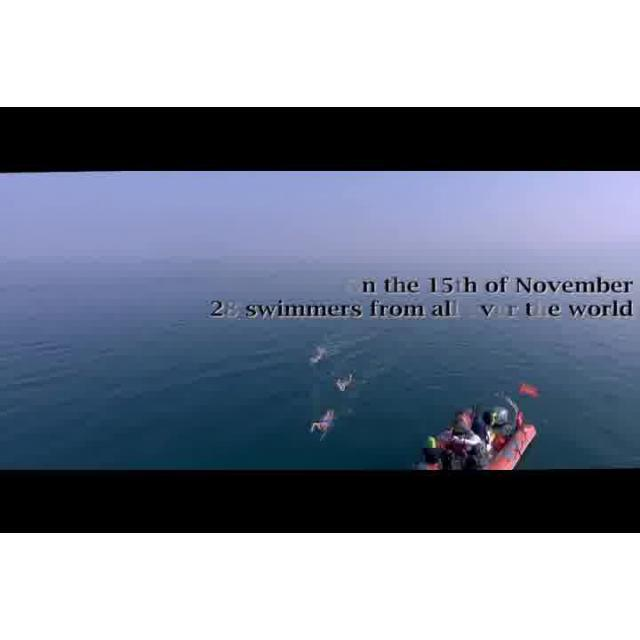human: (309, 409, 336, 444), (331, 368, 355, 393)
